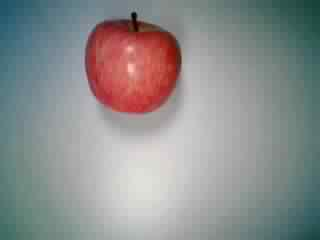apple: (81, 13, 187, 117)
